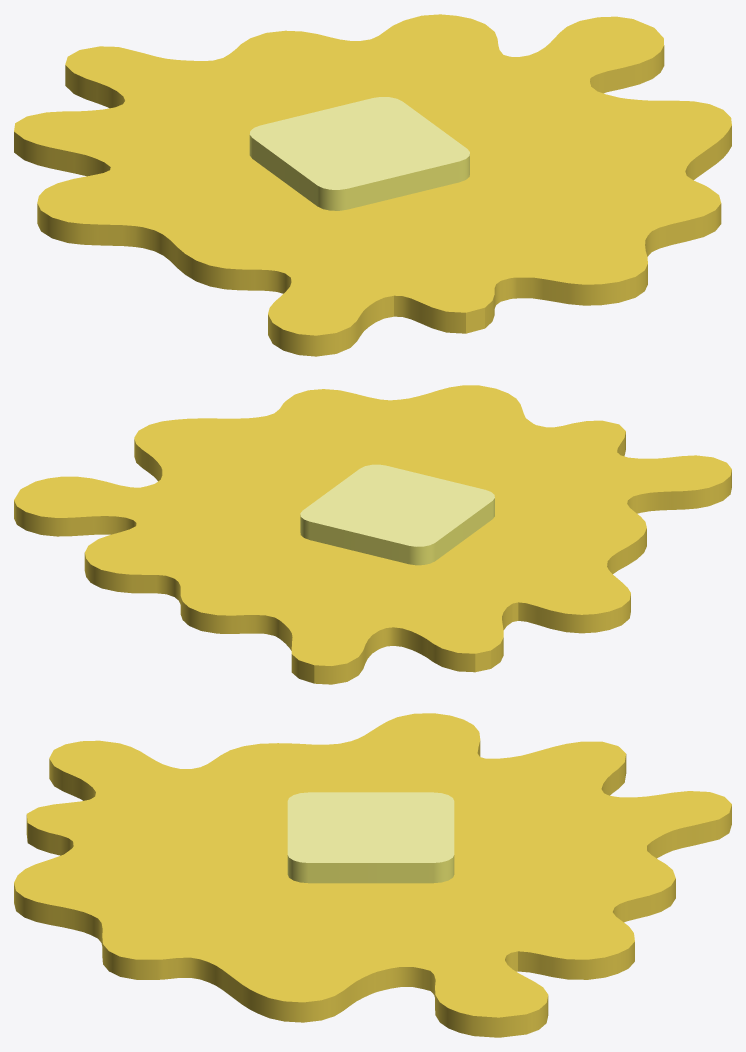
The model's file is Melted_Butter.glb.
3 views of the same model, one above another, from view 1: azimuth 30°, elevation 25°; view 2: azimuth 150°, elevation 25°; view 3: azimuth 270°, elevation 25° (orthographic). The views are drawn at different scales.
Parts seen in each view (by area): view 1: Melted_Butter; view 2: Melted_Butter; view 3: Melted_Butter.
Part boxes in pixels (<box>): Melted_Butter: <box>14,14,731,356</box>; Melted_Butter: <box>14,385,731,684</box>; Melted_Butter: <box>14,713,731,1037</box>.
Bounding box in the file's own units: 16.18 × 1 × 16.12.
1 material, 1 textured.
